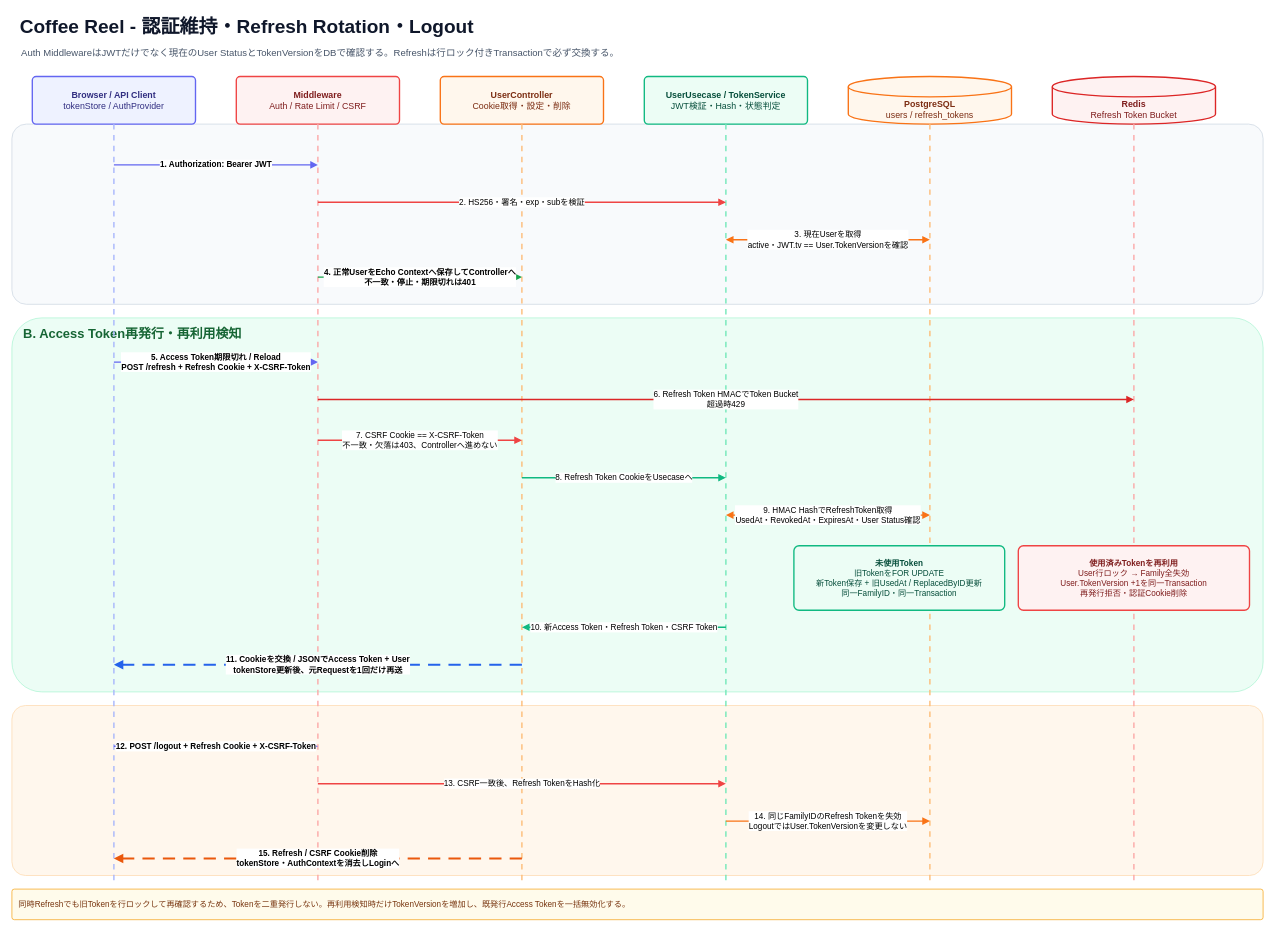
This 1275x932 diagram has some shape labels left out. The box of each missing label's shape, as (x1, y1, x2, y2) in pixels:
A. Access Token認証: (11, 123, 1263, 304)
C. Logout: (11, 705, 1263, 876)
